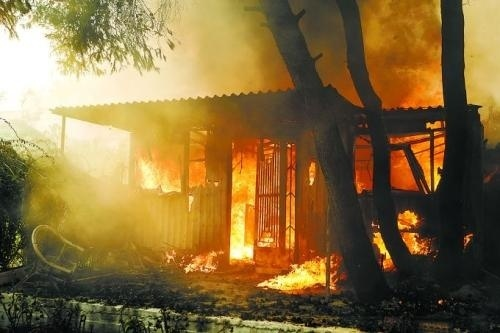fire: (141, 124, 451, 286)
